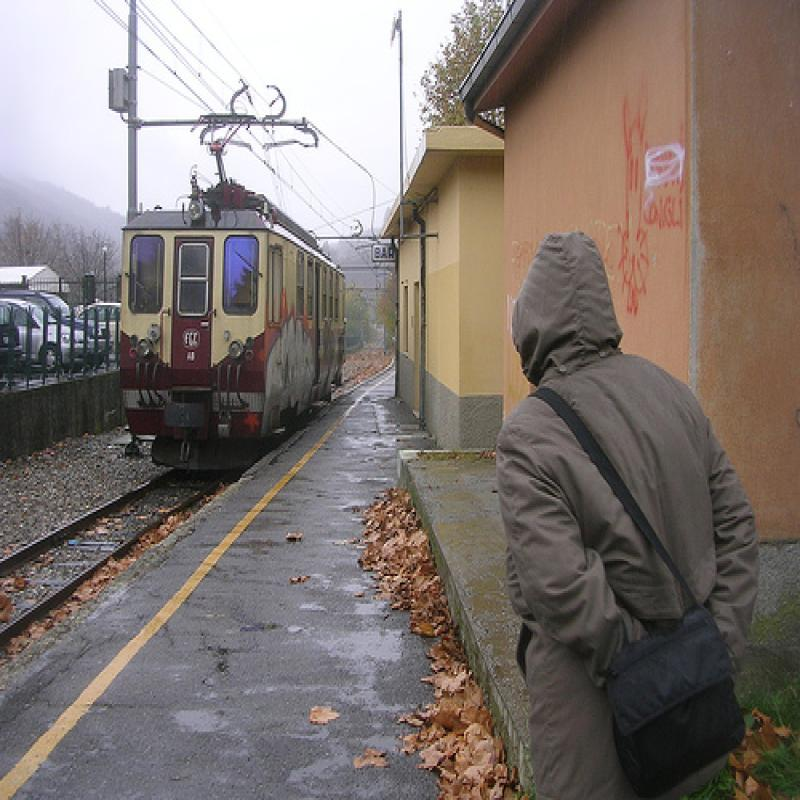train: (121, 185, 350, 475)
